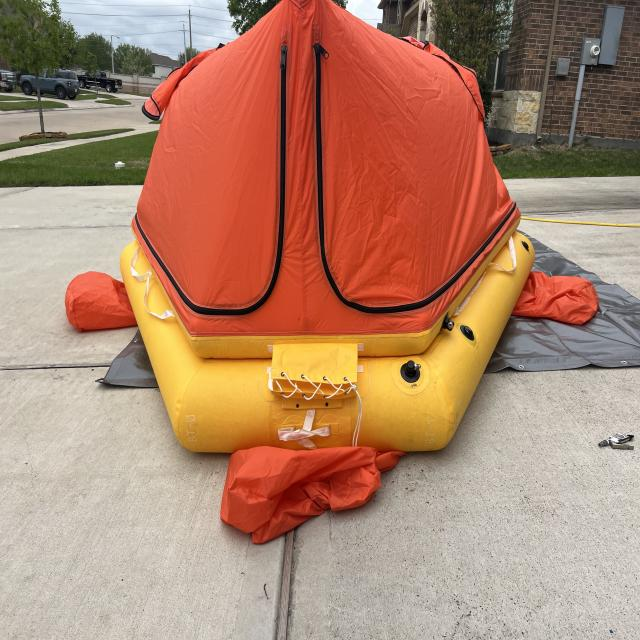Multi-person_life_raft: (65, 1, 601, 544)
